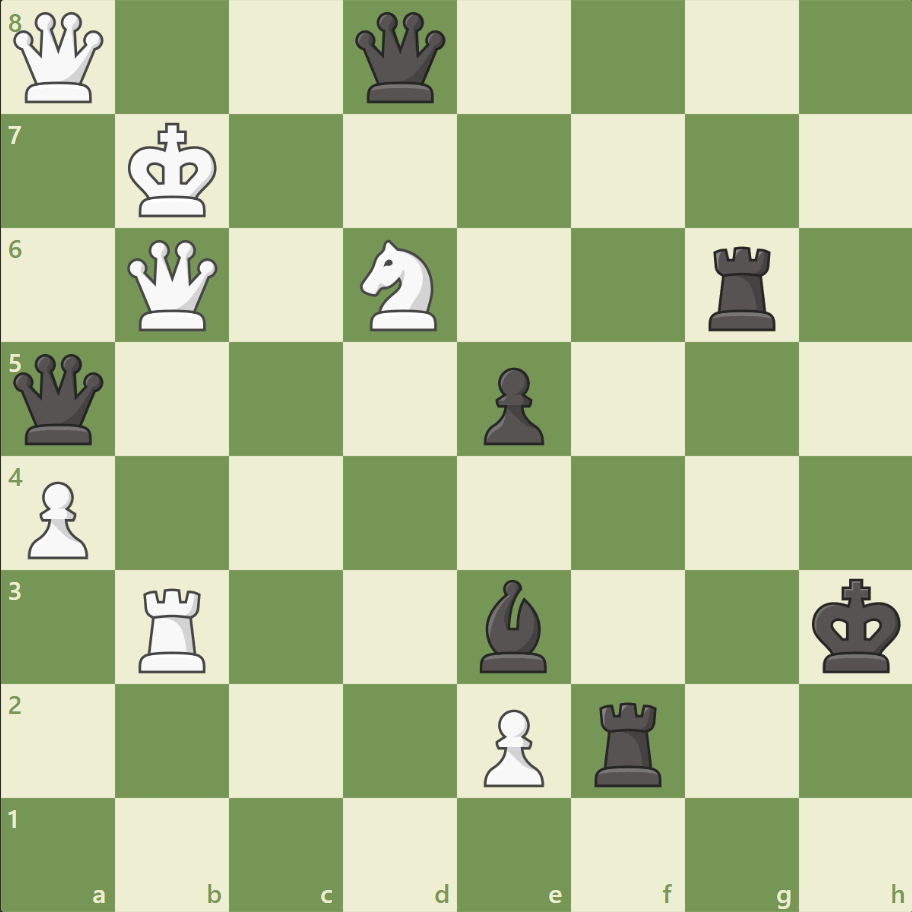K: (124, 117, 224, 225)
N: (351, 234, 449, 337)
P: (20, 473, 95, 564), (474, 700, 549, 791)
Q: (10, 9, 109, 108), (124, 236, 223, 335)
R: (133, 579, 215, 676)
b: (471, 574, 555, 676)
k: (806, 571, 906, 679)
p: (474, 359, 549, 450)
q: (10, 349, 109, 449), (351, 9, 450, 108)
r: (700, 239, 783, 336), (587, 693, 670, 790)
